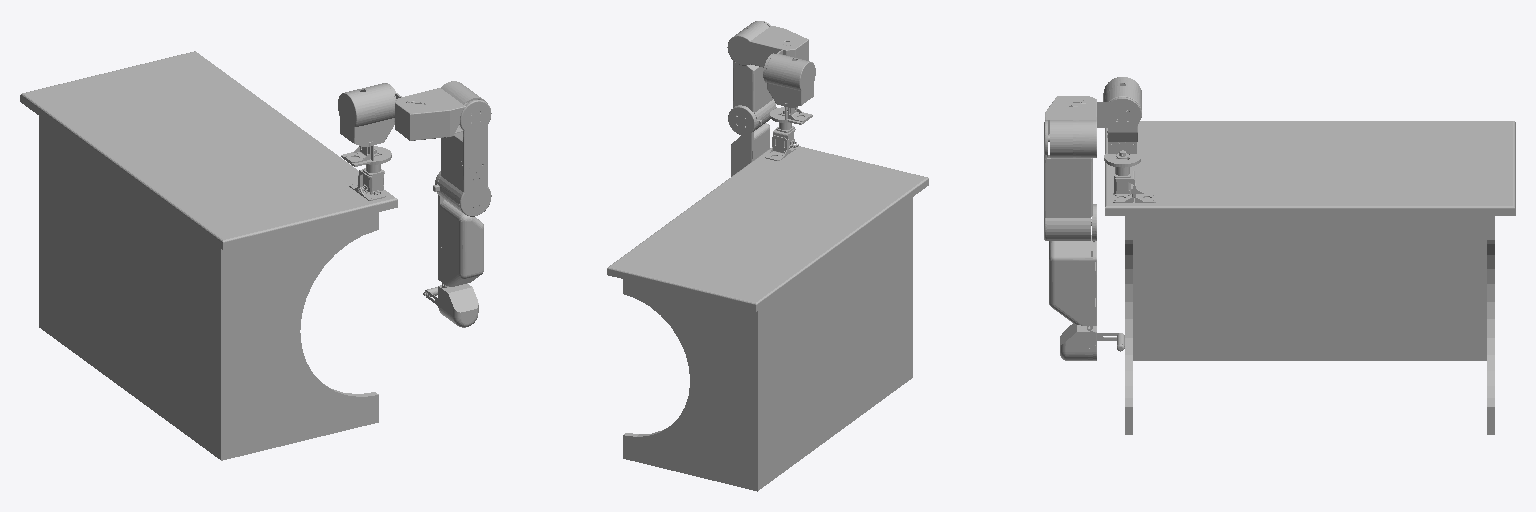
robot.urdf — ver5_bokhop:
<?xml version="1.0" encoding="utf-8" ?>
<!-- This URDF was automatically created by SolidWorks to URDF Exporter! Originally created by [author] ([email redacted]) 
     Commit Version: 1.6.0-4-g7f85cfe  Build Version: 1.6.7995.38578
     For more information, please see http://wiki.ros.org/sw_urdf_exporter -->
<robot name="ver5_bokhop">
<link name="world" />
    <joint name="base_joint" type="fixed">
        <parent link="world" />
        <child link="base_link" />
        <origin rpy="0 0 0" xyz="0.0 0.0 0.0" />
    </joint>
    <link name="base_link">
        <inertial>
            <origin xyz="-0.541028895516215 0.144020049764077 -0.135464367082206" rpy="0 0 0" />
            <mass value="28.7348920670508" />
            <inertia ixx="4.28990724847208" ixy="-0.304233399647329" ixz="1.31231489158355E-07" iyy="3.61728901017525" iyz="-1.97177735013271E-06" izz="1.833423119883" />
        </inertial>
        <visual>
            <origin xyz="0 0 0" rpy="0 0 0" />
            <geometry>
                <mesh filename="package://ver5_bokhop/meshes/base_link.STL" />
            </geometry>
            <material name="">
                <color rgba="0.752941176470588 0.752941176470588 0.752941176470588 1" />
            </material>
        </visual>
        <collision>
            <origin xyz="0 0 0" rpy="0 0 0" />
            <geometry>
                <mesh filename="package://ver5_bokhop/meshes/base_link.STL" />
            </geometry>
        </collision>
    </link>
    <link name="1_Link">
        <inertial>
            <origin xyz="-0.0197421663099393 0.102326436458912 7.30707807988784E-05" rpy="0 0 0" />
            <mass value="0.373567189145551" />
            <inertia ixx="0.000550222138791537" ixy="-8.91306384077653E-07" ixz="1.80688701909549E-08" iyy="0.000256666787027909" iyz="5.37931789249831E-10" izz="0.000516374514504983" />
        </inertial>
        <visual>
            <origin xyz="0 0 0" rpy="0 0 0" />
            <geometry>
                <mesh filename="package://ver5_bokhop/meshes/1_Link.STL" />
            </geometry>
            <material name="">
                <color rgba="0.752941176470588 0.752941176470588 0.752941176470588 1" />
            </material>
        </visual>
        <collision>
            <origin xyz="0 0 0" rpy="0 0 0" />
            <geometry>
                <mesh filename="package://ver5_bokhop/meshes/1_Link.STL" />
            </geometry>
        </collision>
    </link>
    <joint name="joint_1" type="revolute">
        <origin xyz="-0.24498 -0.31802 0.45611" rpy="1.5708 0 0" />
        <parent link="base_link" />
        <child link="1_Link" />
        <axis xyz="0 1 0" />
        <limit lower="-0.52" upper="0.52" effort="0" velocity="0" />
    </joint>
    <link name="2_Link">
        <inertial>
            <origin xyz="0.111375809720033 0.000119554302922209 0.104496408490137" rpy="0 0 0" />
            <mass value="0.423506239860492" />
            <inertia ixx="0.000410999972299727" ixy="-6.59107383092621E-08" ixz="-1.70570954489433E-06" iyy="0.000997470750281636" iyz="-3.26116361457174E-08" izz="0.00094994482695441" />
        </inertial>
        <visual>
            <origin xyz="0 0 0" rpy="0 0 0" />
            <geometry>
                <mesh filename="package://ver5_bokhop/meshes/2_Link.STL" />
            </geometry>
            <material name="">
                <color rgba="0.752941176470588 0.752941176470588 0.752941176470588 1" />
            </material>
        </visual>
        <collision>
            <origin xyz="0 0 0" rpy="0 0 0" />
            <geometry>
                <mesh filename="package://ver5_bokhop/meshes/2_Link.STL" />
            </geometry>
        </collision>
    </link>
    <joint name="joint_2" type="revolute">
        <origin xyz="0.013216 0.1415 0" rpy="0 0 0" />
        <parent link="1_Link" />
        <child link="2_Link" />
        <axis xyz="1 0 0" />
        <limit lower="-1.57" upper="0" effort="0" velocity="0" />
    </joint>
    <link name="3_Link">
        <inertial>
            <origin xyz="0.000177898280542516 0.158937025886934 -0.0821608808257052" rpy="0 0 0" />
            <mass value="0.360437884974913" />
            <inertia ixx="0.00067124884186569" ixy="5.18120897842719E-06" ixz="1.591111375962E-06" iyy="0.000296584840920358" iyz="2.20097929588789E-05" izz="0.00071645192491104" />
        </inertial>
        <visual>
            <origin xyz="0 0 0" rpy="0 0 0" />
            <geometry>
                <mesh filename="package://ver5_bokhop/meshes/3_Link.STL" />
            </geometry>
            <material name="">
                <color rgba="0.752941176470588 0.752941176470588 0.752941176470588 1" />
            </material>
        </visual>
        <collision>
            <origin xyz="0 0 0" rpy="0 0 0" />
            <geometry>
                <mesh filename="package://ver5_bokhop/meshes/3_Link.STL" />
            </geometry>
        </collision>
    </link>
    <joint name="joint_3" type="revolute">
        <origin xyz="0.17 0 0.0695" rpy="3.1416 0 0" />
        <parent link="2_Link" />
        <child link="3_Link" />
        <axis xyz="0 0 1" />
        <limit lower="-2.1" upper="0.3" effort="0" velocity="0" />
    </joint>
    <link name="4_Link">
        <inertial>
            <origin xyz="0.117339520132332 0.013491692199338 0.00105312493717029" rpy="0 0 0" />
            <mass value="0.291775775404202" />
            <inertia ixx="0.000233674150518912" ixy="2.18183149723368E-05" ixz="2.33750282035035E-05" iyy="0.00220196558427856" iyz="6.79222075459595E-07" izz="0.002122847859809" />
        </inertial>
        <visual>
            <origin xyz="0 0 0" rpy="0 0 0" />
            <geometry>
                <mesh filename="package://ver5_bokhop/meshes/4_Link.STL" />
            </geometry>
            <material name="">
                <color rgba="0.752941176470588 0.752941176470588 0.752941176470588 1" />
            </material>
        </visual>
        <collision>
            <origin xyz="0 0 0" rpy="0 0 0" />
            <geometry>
                <mesh filename="package://ver5_bokhop/meshes/4_Link.STL" />
            </geometry>
        </collision>
    </link>
    <joint name="joint_4" type="revolute">
        <origin xyz="0 0.225 0" rpy="-1.5708 0 1.5708" />
        <parent link="3_Link" />
        <child link="4_Link" />
        <axis xyz="0 1 0" />
        <limit lower="0" upper="2.1" effort="0" velocity="0" />
    </joint>
    <link name="ee_link">
        <inertial>
            <origin xyz="0.0479755201936448 -0.0149190927817675 0.000882603182541686" rpy="0 0 0" />
            <mass value="0.116433279889733" />
            <inertia ixx="6.76358673904212E-05" ixy="-2.25307159842362E-06" ixz="3.58666152333273E-07" iyy="0.00010736639692274" iyz="1.36669504276695E-06" izz="7.40295082248992E-05" />
        </inertial>
        <visual>
            <origin xyz="0 0 0" rpy="0 0 0" />
            <geometry>
                <mesh filename="package://ver5_bokhop/meshes/ee_link.STL" />
            </geometry>
            <material name="">
                <color rgba="0.752941176470588 0.752941176470588 0.752941176470588 1" />
            </material>
        </visual>
        <collision>
            <origin xyz="0 0 0" rpy="0 0 0" />
            <geometry>
                <mesh filename="package://ver5_bokhop/meshes/ee_link.STL" />
            </geometry>
        </collision>
    </link>
    <joint name="ee_joint" type="revolute">
        <origin xyz="0.2685 0.011 0" rpy="0 0 0.0099131" />
        <parent link="4_Link" />
        <child link="ee_link" />
        <axis xyz="0 0 1" />
        <limit lower="-1.57" upper="0" effort="0" velocity="0" />
    </joint>
    <transmission name="trans_joint_1">
        <type>transmission_interface/SimpleTransmission</type>
        <joint name="joint_1">
            <hardwareInterface>hardware_interface/EffortJointInterface</hardwareInterface>
        </joint>
        <actuator name="joint_1_motor">
            <hardwareInterface>hardware_interface/EffortJointInterface</hardwareInterface>
            <mechanicalReduction>1</mechanicalReduction>
        </actuator>
    </transmission>
    <transmission name="trans_joint_2">
        <type>transmission_interface/SimpleTransmission</type>
        <joint name="joint_2">
            <hardwareInterface>hardware_interface/EffortJointInterface</hardwareInterface>
        </joint>
        <actuator name="joint_2_motor">
            <hardwareInterface>hardware_interface/EffortJointInterface</hardwareInterface>
            <mechanicalReduction>1</mechanicalReduction>
        </actuator>
    </transmission>
    <transmission name="trans_joint_3">
        <type>transmission_interface/SimpleTransmission</type>
        <joint name="joint_3">
            <hardwareInterface>hardware_interface/EffortJointInterface</hardwareInterface>
        </joint>
        <actuator name="joint_3_motor">
            <hardwareInterface>hardware_interface/EffortJointInterface</hardwareInterface>
            <mechanicalReduction>1</mechanicalReduction>
        </actuator>
    </transmission>
    <transmission name="trans_joint_4">
        <type>transmission_interface/SimpleTransmission</type>
        <joint name="joint_4">
            <hardwareInterface>hardware_interface/EffortJointInterface</hardwareInterface>
        </joint>
        <actuator name="joint_4_motor">
            <hardwareInterface>hardware_interface/EffortJointInterface</hardwareInterface>
            <mechanicalReduction>1</mechanicalReduction>
        </actuator>
    </transmission>
    <transmission name="trans_ee_joint">
        <type>transmission_interface/SimpleTransmission</type>
        <joint name="ee_joint">
            <hardwareInterface>hardware_interface/EffortJointInterface</hardwareInterface>
        </joint>
        <actuator name="ee_joint_motor">
            <hardwareInterface>hardware_interface/EffortJointInterface</hardwareInterface>
            <mechanicalReduction>1</mechanicalReduction>
        </actuator>
    </transmission>
    <gazebo>
        <plugin name="gazebo_ros_control">
            <robotNamespace>/</robotNamespace>
        </plugin>
    </gazebo>
</robot>

--- Render facts (derived) ---
3 views of the same robot in one strip: view 1: azimuth 30°, elevation 25°; view 2: azimuth 150°, elevation 25°; view 3: azimuth 270°, elevation 25° (orthographic).
Robot: ver5_bokhop — 7 links, 6 joints (5 revolute, 1 fixed); root link world; default pose: all joints at 0.
Links seen in each view (by area): view 1: base_link, 3_Link, 1_Link, 2_Link, 4_Link, ee_link; view 2: base_link, 1_Link, 2_Link, 4_Link, 3_Link; view 3: base_link, 2_Link, 3_Link, 4_Link, 1_Link, ee_link.
Link boxes in pixels (box(x1,y1,x2,y2)): base_link: box(20, 51, 397, 460); 3_Link: box(433, 100, 491, 216); 1_Link: box(338, 83, 395, 166); 2_Link: box(385, 81, 487, 140); 4_Link: box(435, 171, 483, 286); ee_link: box(423, 283, 478, 327); base_link: box(607, 109, 928, 491); 1_Link: box(766, 54, 815, 124); 2_Link: box(727, 21, 808, 82); 4_Link: box(728, 105, 769, 176); 3_Link: box(733, 21, 776, 129); base_link: box(1105, 121, 1515, 434); 2_Link: box(1045, 96, 1140, 157); 3_Link: box(1044, 120, 1092, 240); 4_Link: box(1049, 204, 1096, 330); 1_Link: box(1103, 77, 1141, 167); ee_link: box(1060, 323, 1124, 360).
Size in the robot's own frame: 0.6852 by 1.15 by 0.919 metres.
Meshes: 6 distinct files referenced, 6 mesh visuals loaded (6 binary STL).
